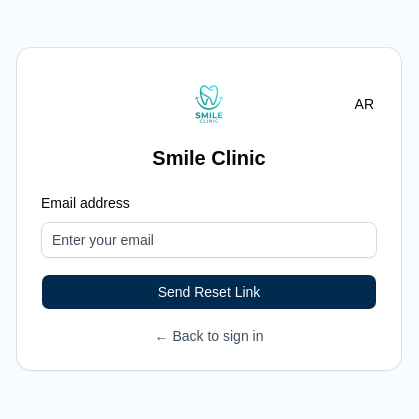
Test: ForgotPasswordPage › does not reveal account existence on error
This screenshot has width=419, height=419.
Type "nonexistent@example.com" into the field labelled "Email address". click: (209, 240)
box: top-left (41, 222), bottom-right (377, 258)
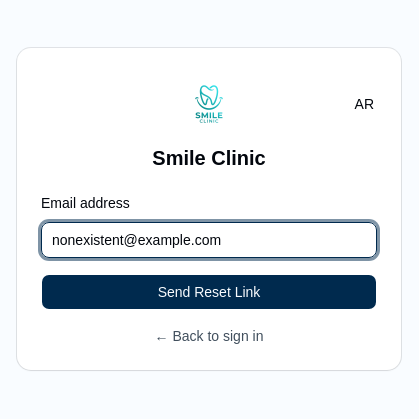
Click the button "Send Reset Link". click: (209, 292)
box: top-left (41, 274), bottom-right (377, 310)
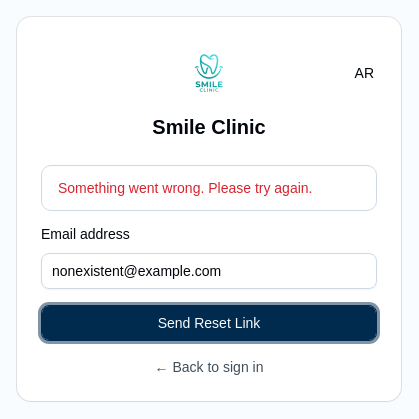
Result: the message "Something went wrong. Please try again." is shown at top-left (41, 165), bottom-right (377, 211)
